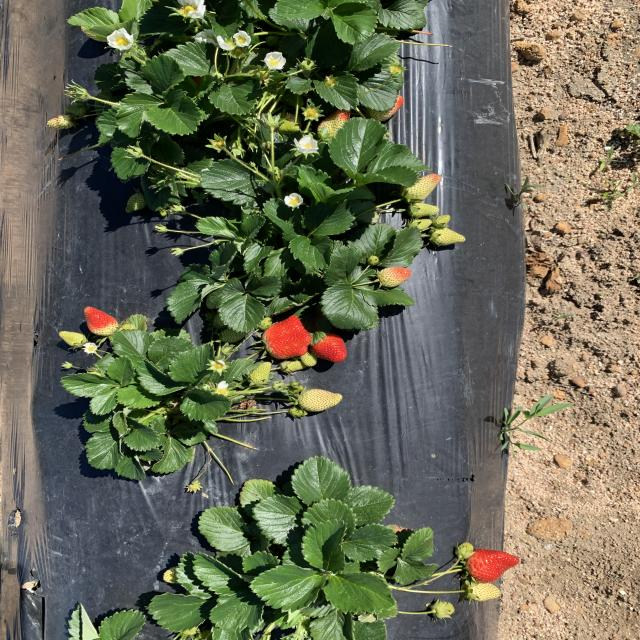unripe: (263, 314, 313, 360), (461, 545, 521, 583), (305, 325, 350, 368), (84, 306, 116, 335)
